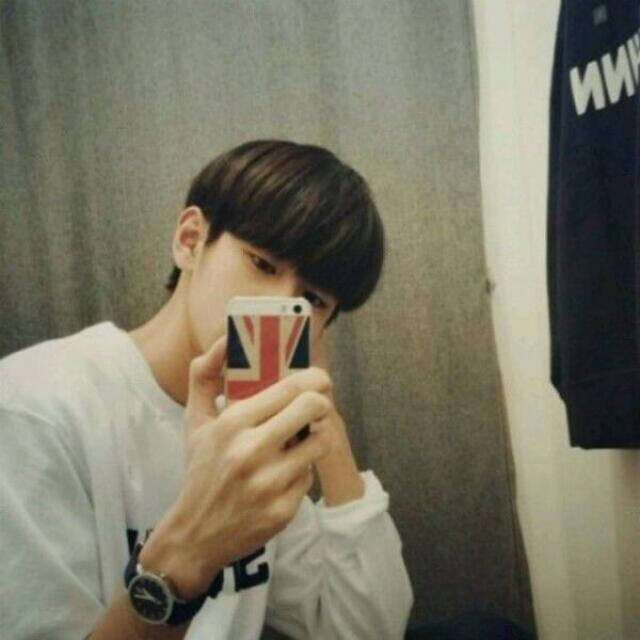nomask: (198, 204, 340, 387)
